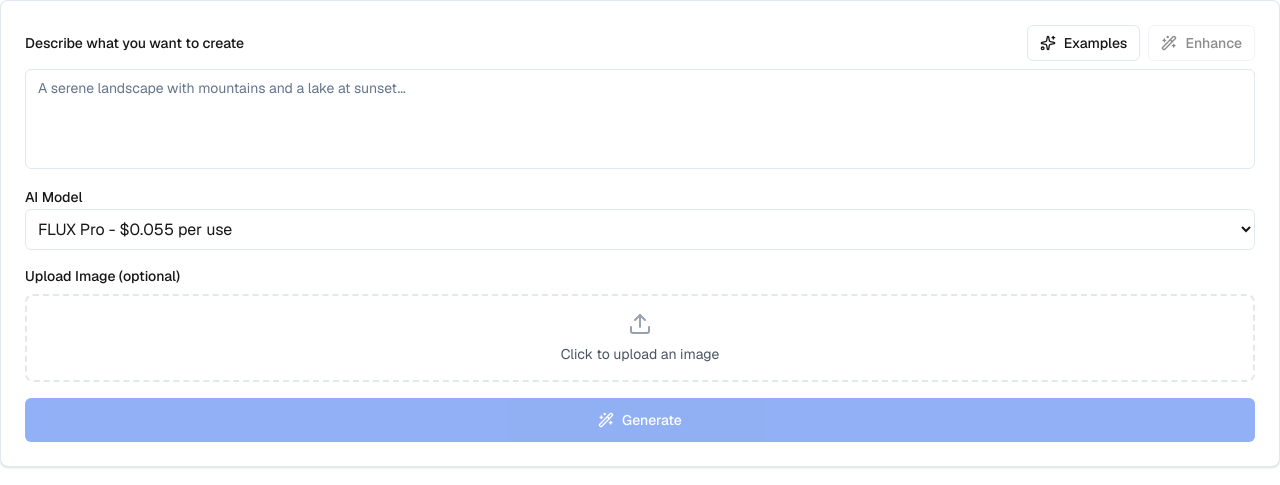
Test: PromptInput Component › enables generate button when prompt is provided
In the text box with placeholder "A serene landscape with mountains and a lake at sunset...": (640, 119) [25,69,1255,169], type "Test prompt"
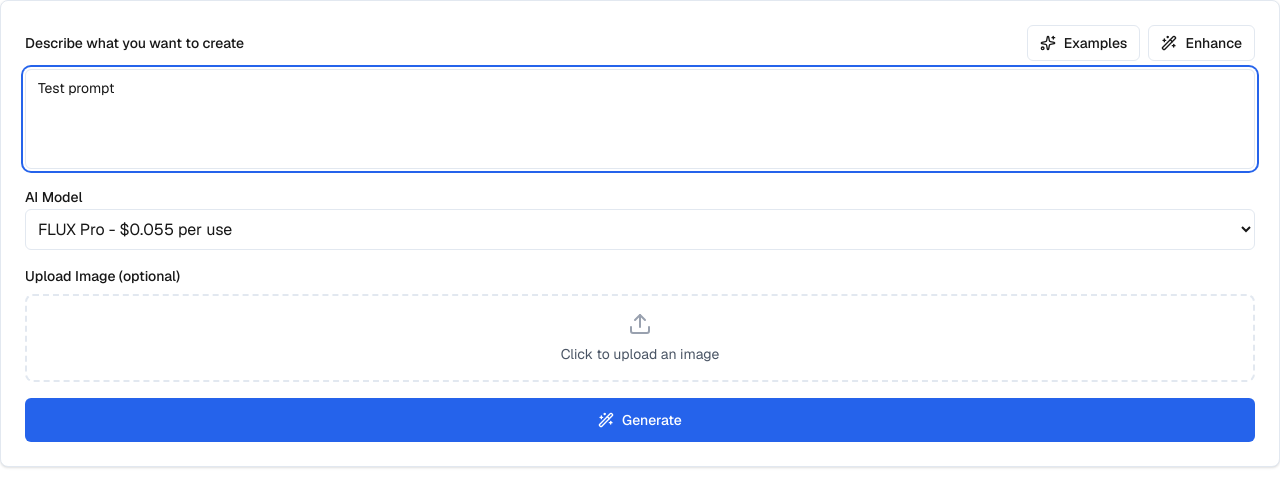
Check: the button "Generate" is enabled, box [25,398,1255,442]
